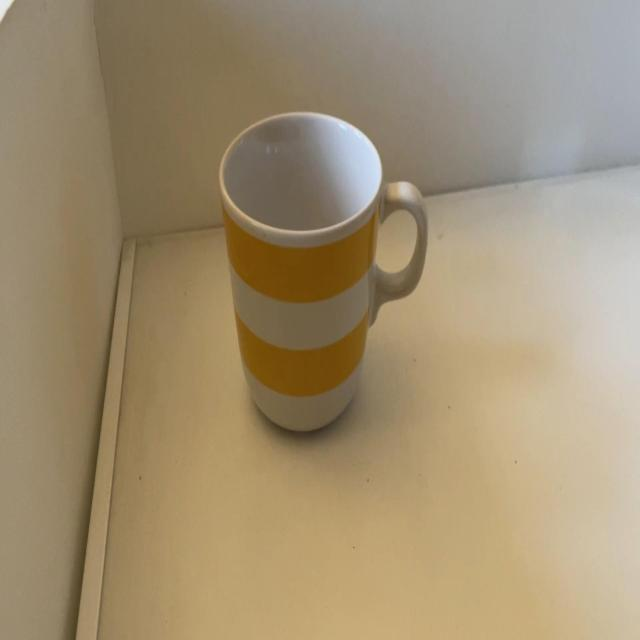cup: (217, 111, 430, 431)
